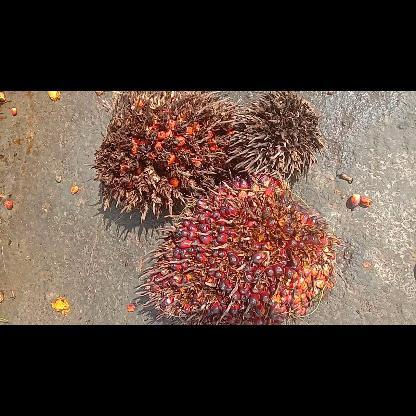Janjang kosong: (226, 90, 326, 180)
TBS masak: (135, 174, 345, 324)
Terlalu masak: (90, 91, 240, 221)
